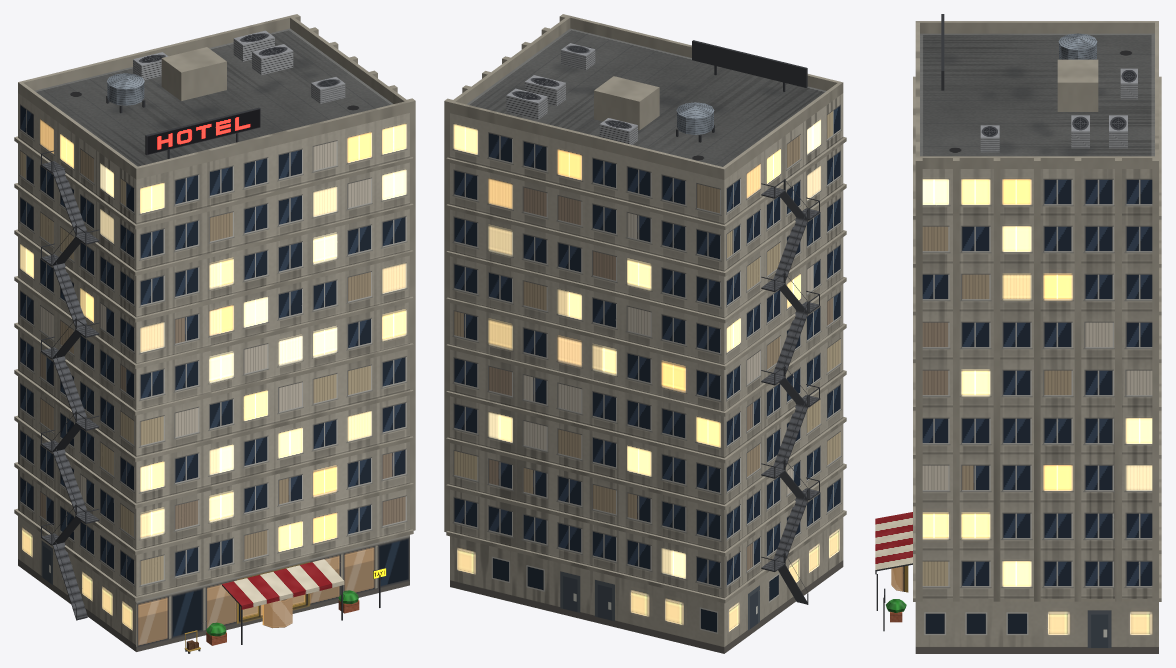
The model's file is prop_hotel.glb.
The picture shows the model from 3 angles, left to right: view 1: azimuth 30°, elevation 25°; view 2: azimuth 150°, elevation 25°; view 3: azimuth 270°, elevation 25°; orthographic projection. The views are drawn at different scales.
Visible parts, largest first — view 1: prop_hotel; view 2: prop_hotel; view 3: prop_hotel.
Boxes of the visible parts, <box> form: prop_hotel: <box>14,14,415,653</box>; prop_hotel: <box>444,14,846,653</box>; prop_hotel: <box>875,14,1161,653</box>.
Size of the model in its own units: 25.7 by 42 by 21.2.
Materials: 1 (1 with a texture image).
